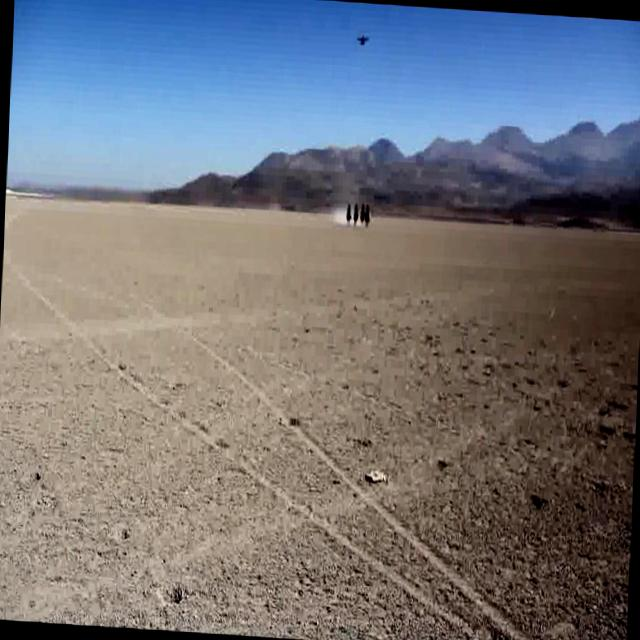drone: (354, 31, 372, 52)
